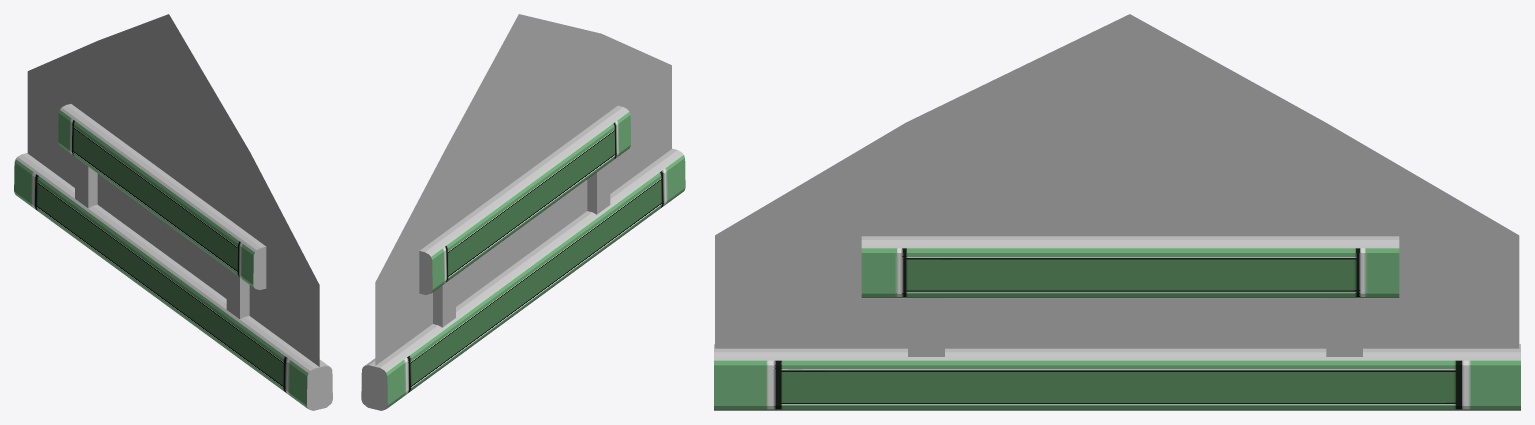
The model's file is SM_R_MiddleBeam_2.fbx.
3 renders of one model, left to right at view 1: azimuth 30°, elevation 25°; view 2: azimuth 150°, elevation 25°; view 3: azimuth 270°, elevation 25°, orthographic. The views are drawn at different scales.
Parts seen in each view (by area): view 1: SM_R_MiddleBeam_2_LOD0; view 2: SM_R_MiddleBeam_2_LOD0; view 3: SM_R_MiddleBeam_2_LOD0.
Part boxes in pixels (bbox=[...]): SM_R_MiddleBeam_2_LOD0: bbox=[14, 14, 332, 410]; SM_R_MiddleBeam_2_LOD0: bbox=[361, 14, 685, 410]; SM_R_MiddleBeam_2_LOD0: bbox=[714, 14, 1520, 410].
Bounding box in the file's own units: 30 × 584 × 313.
